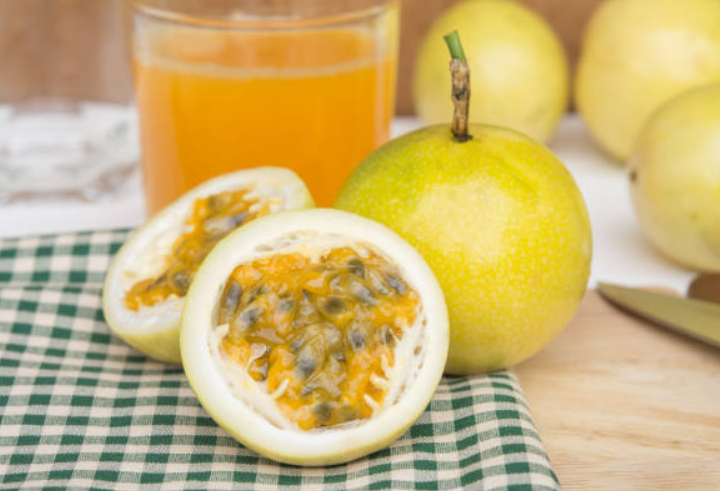maracuya: (320, 113, 599, 391)
